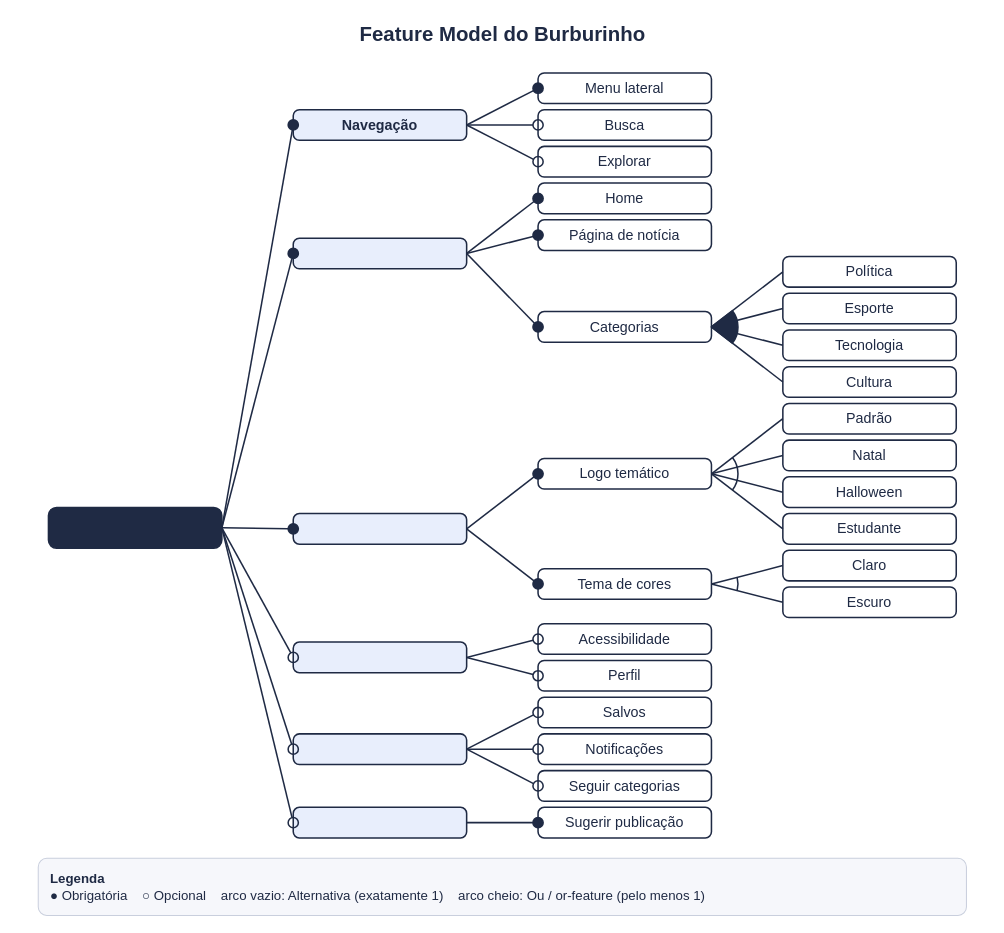
Some shapes in this 1004 by 933 pixel diagram are drawn without their labels. The centre of each missing label's shape, as x and y in pixels:
"Conteúdo" goes at (379,253).
"Contribuição do leitor" goes at (379,822).
"Identidade visual" goes at (379,528).
"Interação" goes at (379,749).
"Personalização" goes at (379,657).
"Portal Burburinho" goes at (134,527).
